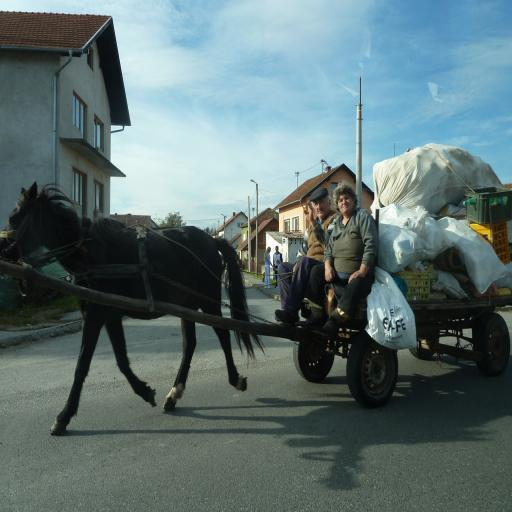Horse: (0, 178, 266, 437)
